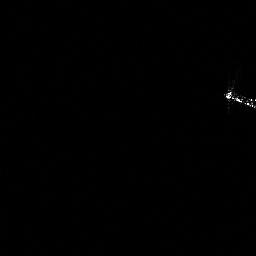ship: (221, 83, 256, 110)
